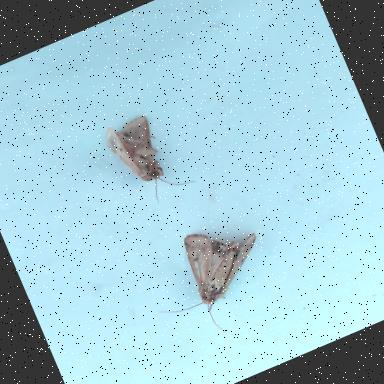abw: (132, 208, 290, 358), (96, 98, 202, 216)
